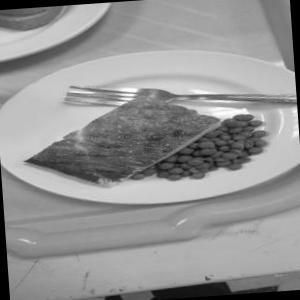casserole: (23, 84, 276, 209)
